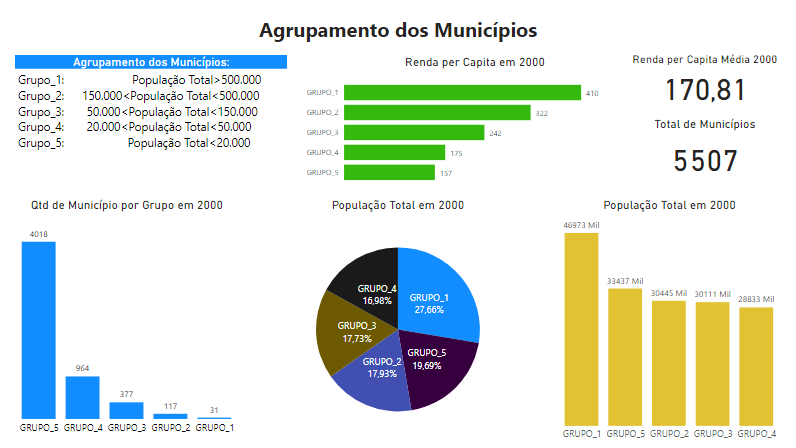

The page's visual inventory and layout, read from the dashboard file:
{"tool":"powerbi","page":{"name":"Agrupamento","canvas":[1280,720],"ordinal":0},"visuals":[{"type":"columnChart","title":"Qtd de Município por Grupo em 2000","fields":{"Category":["selecao_2021.Grupo da cidade, 2000"],"Y":["CountNonNull(selecao_2021.Município)"]},"box":[4.8,317.2,403.7,387.7],"z":0},{"type":"textbox","title":"Agrupamento dos Municípios:","box":[27.2,88.1,435.7,173],"z":1000},{"type":"pieChart","title":"População Total em 2000","fields":{"Category":["selecao_2021.Grupo da cidade, 2000"],"Y":["Sum(selecao_2021.População total, 2000)"]},"box":[395.7,317.2,490.2,398.9],"z":2000},{"type":"columnChart","title":"População Total em 2000","fields":{"Category":["selecao_2021.Grupo da cidade, 2000"],"Y":["Sum(selecao_2021.População total, 2000)"]},"box":[874.7,317.2,402.1,398.9],"z":3000},{"type":"textbox","box":[387.7,19.2,506.2,64.1],"z":4000},{"type":"clusteredBarChart","title":"Renda per Capita em 2000","fields":{"Category":["selecao_2021.Grupo da cidade, 2000"],"Y":["Avg(selecao_2021.Renda per Capita, 2000)"]},"box":[485.4,88.1,557.5,219.5],"z":5000},{"type":"card","title":"Renda per Capita Média 2000","fields":{"Values":["Avg(selecao_2021.Renda per Capita, 2000)"]},"box":[1002.9,83.3,259.5,86.5],"z":6000},{"type":"card","title":"Total de Municípios","fields":{"Values":["Count(selecao_2021.Município)"]},"box":[1020.5,187.4,224.3,105.7],"z":7000}]}

Visuals, with their boxes in screenshot pixels (x1, y1, x2, y2), scaled from the page's 1280x720 canvas onto the 796x448 screenshot:
"Qtd de Município por Grupo em 2000" columnChart: bbox=(3, 197, 254, 439)
"Agrupamento dos Municípios:" textbox: bbox=(17, 55, 288, 162)
"População Total em 2000" pieChart: bbox=(246, 197, 551, 446)
"População Total em 2000" columnChart: bbox=(544, 197, 794, 446)
textbox: bbox=(241, 12, 556, 52)
"Renda per Capita em 2000" clusteredBarChart: bbox=(302, 55, 649, 191)
"Renda per Capita Média 2000" card: bbox=(624, 52, 785, 106)
"Total de Municípios" card: bbox=(635, 117, 774, 182)
